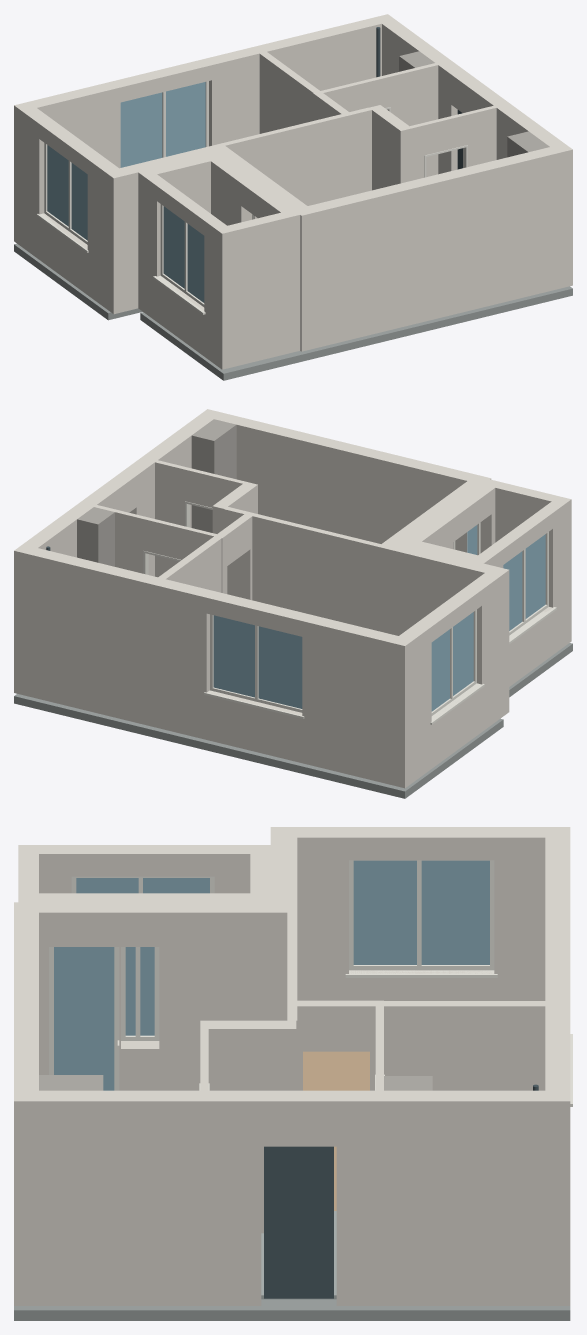
File: apartment.obj
3 views of the same model, one above another, from view 1: azimuth 30°, elevation 25°; view 2: azimuth 150°, elevation 25°; view 3: azimuth 270°, elevation 25° (orthographic). The views are drawn at different scales.
Visible parts, largest first — view 1: part_052, part_067, part_024, part_037, part_036, part_014, part_017, part_038, part_045, part_025, part_048, part_001 (+27 smaller); view 2: part_024, part_052, part_014, part_037, part_036, part_017, part_000, part_015, part_067, part_035, part_047, part_025 (+27 smaller); view 3: part_047, part_045, part_053, part_028, part_038, part_085, part_052, part_025, part_035, part_024, part_088, part_048 (+28 smaller).
Boxes of the visible parts, x1=… form: part_052: x1=293, y1=143, x2=572, y2=351; part_067: x1=215, y1=210, x2=300, y2=369; part_024: x1=204, y1=14, x2=395, y2=146; part_037: x1=222, y1=107, x2=371, y2=205; part_036: x1=105, y1=143, x2=224, y2=314; part_014: x1=14, y1=81, x2=120, y2=246; part_017: x1=120, y1=82, x2=205, y2=167; part_038: x1=259, y1=52, x2=319, y2=133; part_045: x1=382, y1=20, x2=464, y2=174; part_025: x1=22, y1=108, x2=52, y2=259; part_048: x1=369, y1=105, x2=412, y2=190; part_001: x1=297, y1=286, x2=572, y2=361; part_024: x1=14, y1=544, x2=214, y2=739; part_052: x1=199, y1=409, x2=491, y2=543; part_014: x1=302, y1=614, x2=413, y2=788; part_037: x1=224, y1=507, x2=380, y2=630; part_036: x1=377, y1=540, x2=509, y2=718; part_017: x1=213, y1=615, x2=302, y2=708; part_000: x1=14, y1=693, x2=503, y2=798; part_015: x1=206, y1=690, x2=302, y2=762; part_067: x1=483, y1=479, x2=571, y2=646; part_035: x1=467, y1=573, x2=499, y2=731; part_047: x1=122, y1=415, x2=213, y2=576; part_025: x1=399, y1=623, x2=431, y2=781; part_047: x1=39, y1=1090, x2=261, y2=1305; part_045: x1=336, y1=1090, x2=545, y2=1305; part_053: x1=159, y1=893, x2=287, y2=1090; part_028: x1=353, y1=860, x2=489, y2=964; part_038: x1=384, y1=1001, x2=545, y2=1090; part_085: x1=264, y1=1146, x2=333, y2=1298; part_052: x1=14, y1=902, x2=38, y2=1305; part_025: x1=494, y1=827, x2=545, y2=1000; part_035: x1=297, y1=827, x2=348, y2=1000; part_024: x1=545, y1=966, x2=570, y2=1305; part_088: x1=54, y1=947, x2=114, y2=1090; part_048: x1=200, y1=1020, x2=296, y2=1233.
Bounding box in the file's own units: 7.8 × 2.9 × 6.69.
